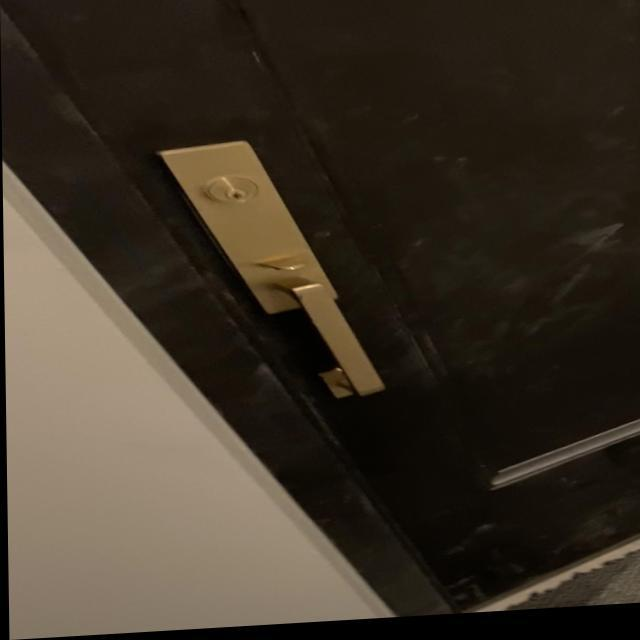door_handle: (263, 280, 389, 415)
